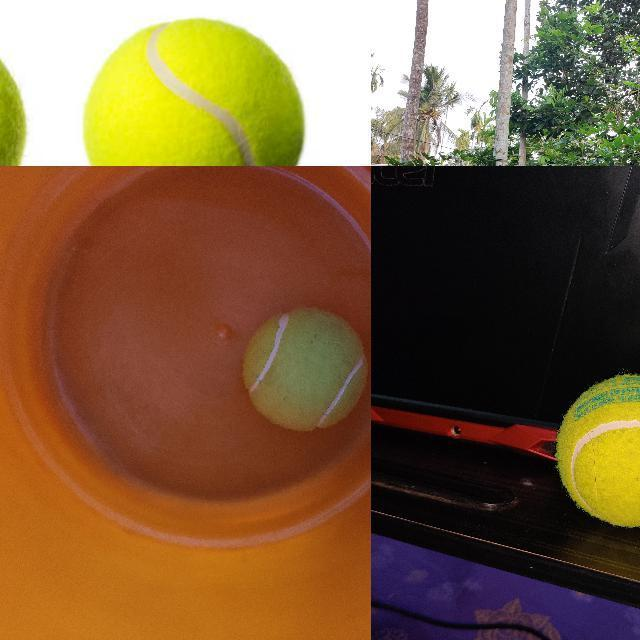tennis-ball: (81, 16, 305, 165), (241, 308, 367, 431), (553, 372, 639, 528)
